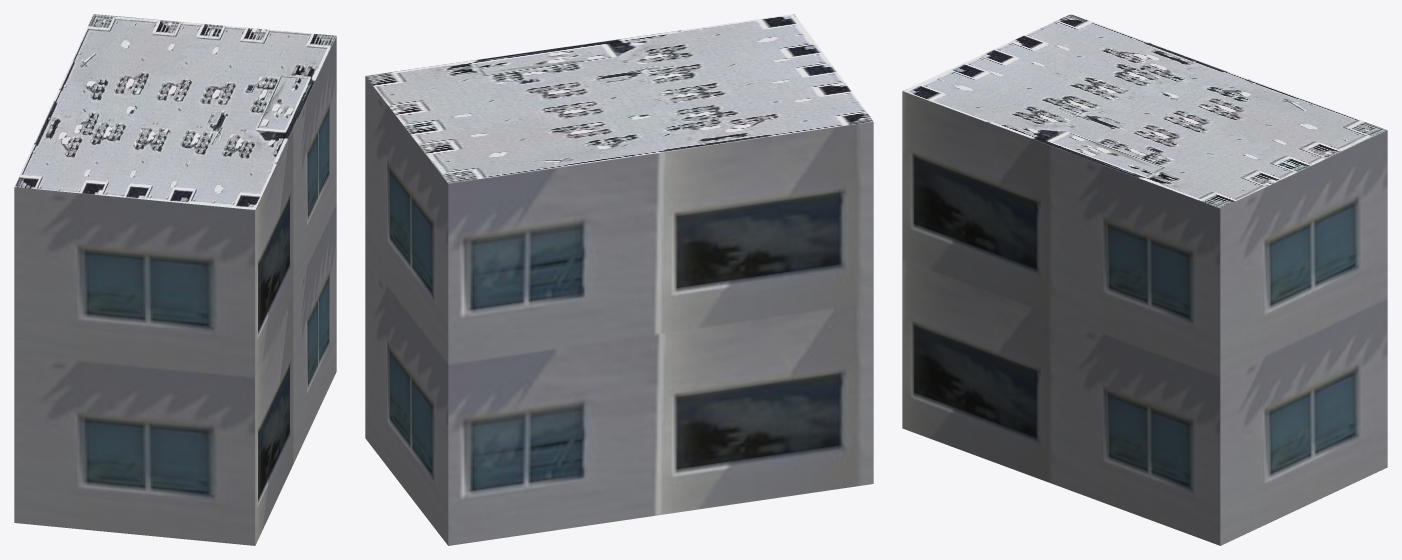
Rendered from ResTex__3398.fbx.
The picture shows the model from 3 angles, left to right: view 1: azimuth 30°, elevation 25°; view 2: azimuth 150°, elevation 25°; view 3: azimuth 270°, elevation 25°; orthographic projection. The views are drawn at different scales.
Parts seen in each view (by area): view 1: CityEngineMaterial_10_m, CityEngineMaterial_4_m; view 2: CityEngineMaterial_10_m, CityEngineMaterial_4_m; view 3: CityEngineMaterial_10_m, CityEngineMaterial_4_m.
Boxes of the visible parts, bbox=[...] form: CityEngineMaterial_10_m: bbox=[14, 36, 336, 545]; CityEngineMaterial_4_m: bbox=[14, 14, 336, 209]; CityEngineMaterial_10_m: bbox=[365, 76, 873, 545]; CityEngineMaterial_4_m: bbox=[365, 14, 873, 183]; CityEngineMaterial_10_m: bbox=[902, 91, 1387, 545]; CityEngineMaterial_4_m: bbox=[903, 14, 1386, 208].
Size of the model in its own units: 7.42 by 6 by 7.82.
2 materials, 2 textured.
